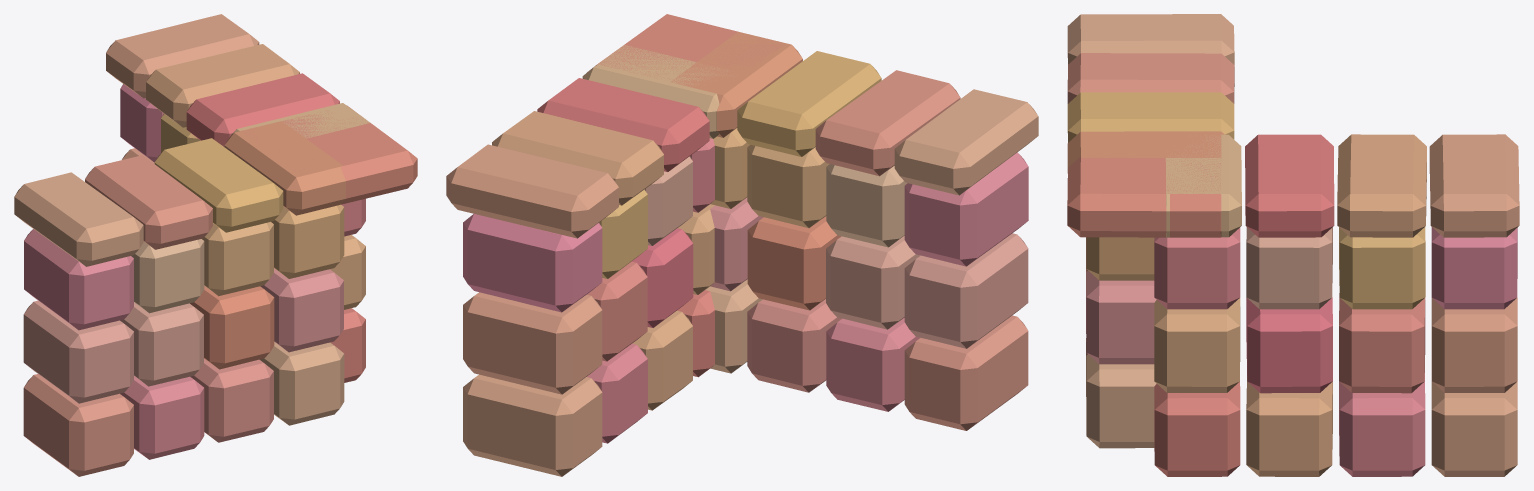
File: WC_RIVER_Bank_Outer_A.glb
3 views of the same model, side by side, from view 1: azimuth 30°, elevation 25°; view 2: azimuth 150°, elevation 25°; view 3: azimuth 270°, elevation 25° (orthographic). The views are drawn at different scales.
Visible parts, largest first — view 1: WC_RIVER_Bank_Outer_A_RenderMesh; view 2: WC_RIVER_Bank_Outer_A_RenderMesh; view 3: WC_RIVER_Bank_Outer_A_RenderMesh.
Part boxes in pixels (bbox=[...]): WC_RIVER_Bank_Outer_A_RenderMesh: bbox=[14, 14, 417, 476]; WC_RIVER_Bank_Outer_A_RenderMesh: bbox=[446, 14, 1038, 476]; WC_RIVER_Bank_Outer_A_RenderMesh: bbox=[1067, 14, 1519, 476].
Size of the model in its own units: 1.22 by 0.8675 by 1.22.
